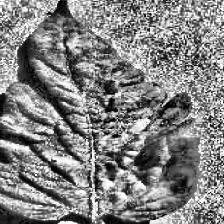leaf mold: (0, 0, 198, 221)
